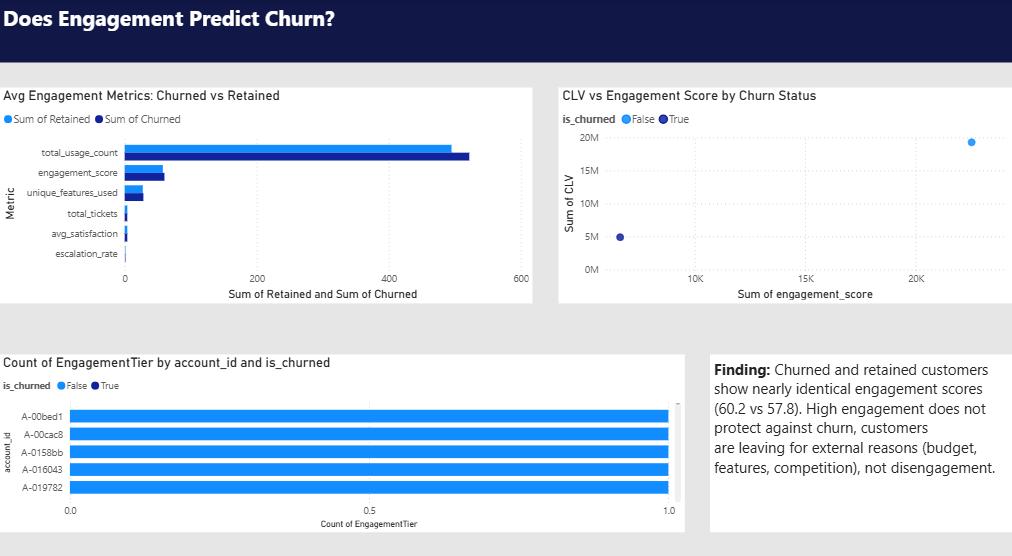

This screenshot's page, from the dashboard's own definition file:
{"tool":"powerbi","page":{"name":"Engagement & Usage","canvas":[1280,720],"ordinal":3},"visuals":[{"type":"textbox","box":[0,0,1280,80],"z":0},{"type":"clusteredBarChart","title":"Avg Engagement Metrics: Churned vs Retained","fields":{"Category":["engagement_comparison.Metric"],"Y":["Sum(engagement_comparison.Retained)","Sum(engagement_comparison.Churned)"]},"box":[0,112,672,272],"z":1000},{"type":"scatterChart","title":"CLV vs Engagement Score by Churn Status","fields":{"X":["Sum(master_accounts.engagement_score)"],"Y":["Sum(master_accounts.CLV)"],"Series":["master_accounts.is_churned"]},"box":[704,112,576,272],"z":2000},{"type":"barChart","fields":{"Y":["CountNonNull(master_accounts.EngagementTier)"],"Category":["master_accounts.account_id"],"Series":["master_accounts.is_churned"]},"box":[0,448,864,224],"z":3000},{"type":"textbox","box":[896,448,384,224],"z":4000}]}

Visuals, with their boxes in screenshot pixels (x1, y1, x2, y2), scaled from the page's 1280x720 canvas onto the 1012x556 screenshot:
textbox: <bbox>0, 0, 1011, 62</bbox>
"Avg Engagement Metrics: Churned vs Retained" clusteredBarChart: <bbox>0, 86, 531, 297</bbox>
"CLV vs Engagement Score by Churn Status" scatterChart: <bbox>557, 86, 1011, 297</bbox>
barChart - CountNonNull(master_accounts.EngagementTier) x master_accounts.account_id: <bbox>0, 346, 683, 519</bbox>
textbox: <bbox>708, 346, 1011, 519</bbox>
